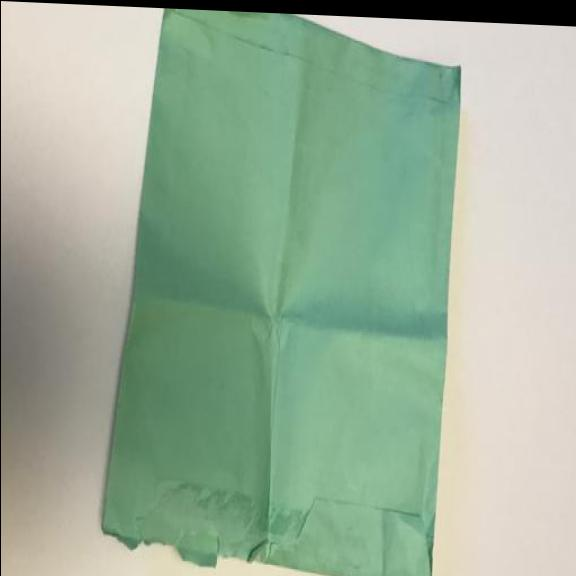Kertas: (100, 4, 460, 576)
